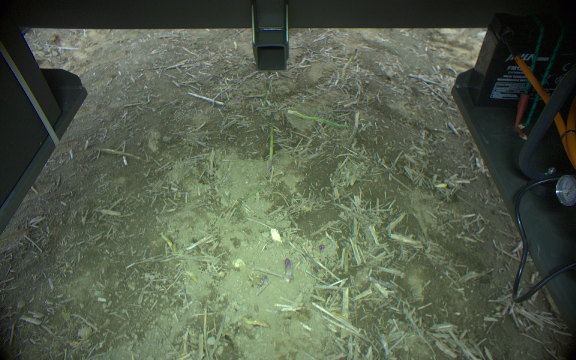aspa: (283, 108, 351, 130), (265, 116, 275, 175), (341, 47, 358, 71)
